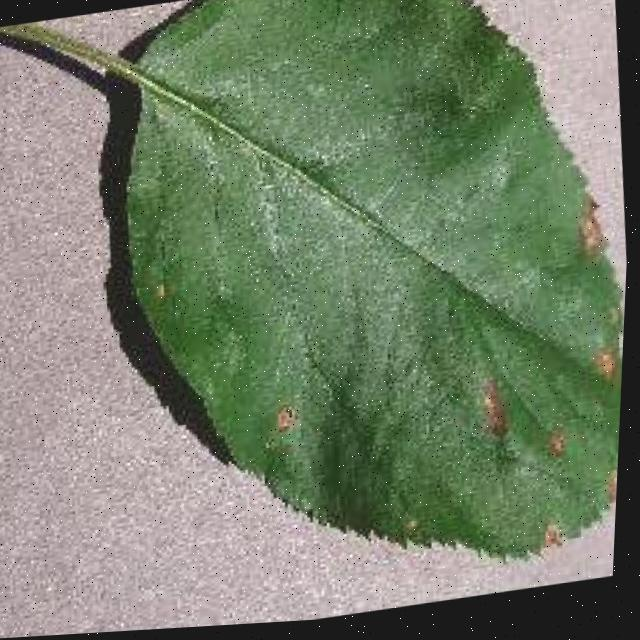black_rot: (457, 364, 526, 489), (562, 199, 615, 271), (541, 415, 582, 476), (529, 514, 573, 568), (583, 339, 623, 389), (271, 397, 307, 443), (594, 461, 618, 502)
